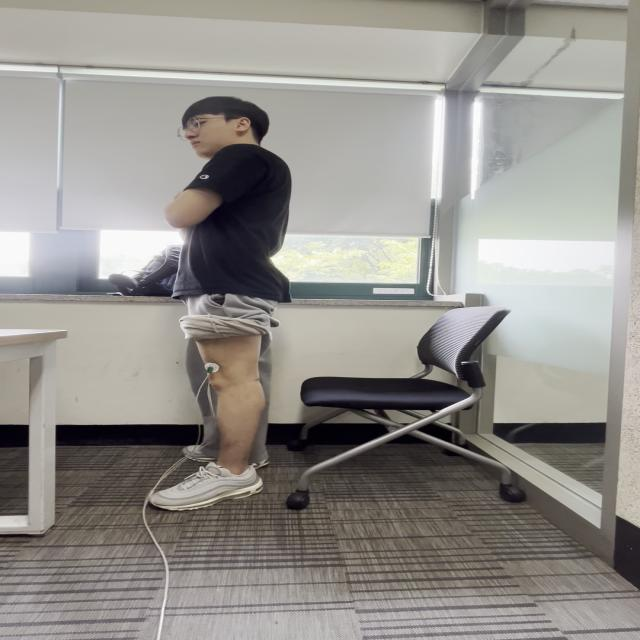stand: (180, 150, 311, 412), (146, 286, 298, 504)
